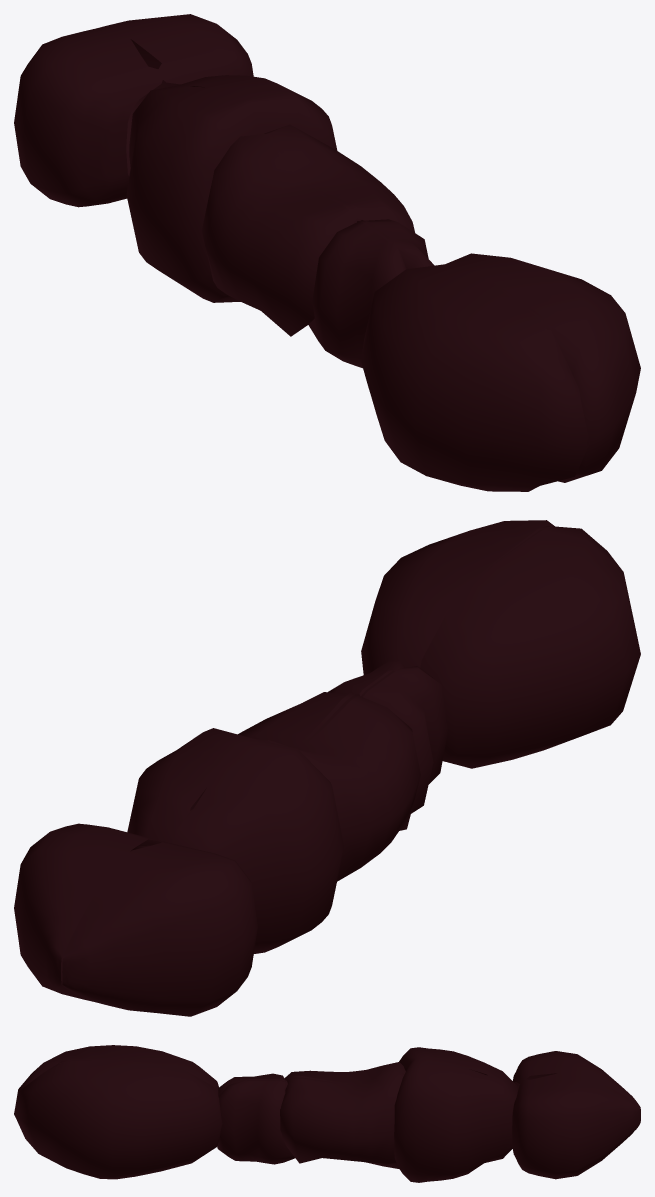
Rendered from ant.glb.
3 views of the same model, one above another, from view 1: azimuth 30°, elevation 25°; view 2: azimuth 150°, elevation 25°; view 3: azimuth 270°, elevation 25° (orthographic). The views are drawn at different scales.
Visible parts, largest first — view 1: body.001; view 2: body.001; view 3: body.001.
Boxes of the visible parts, x1=… form: body.001: x1=14, y1=14, x2=640, y2=491; body.001: x1=14, y1=520, x2=640, y2=1016; body.001: x1=14, y1=1045, x2=640, y2=1182.
Size of the model in its own units: 0.8077 by 0.6361 by 3.05.
